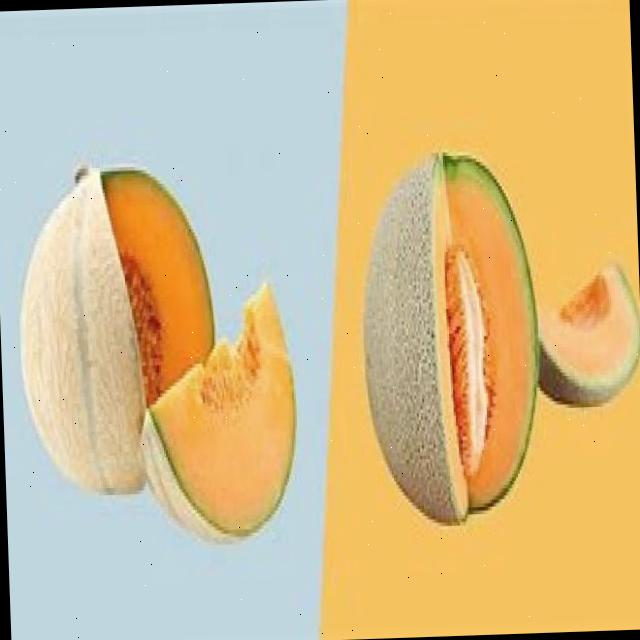Hami Melon: (357, 144, 545, 530), (13, 161, 218, 497)
